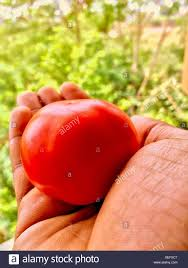tomato: (21, 100, 137, 204)
